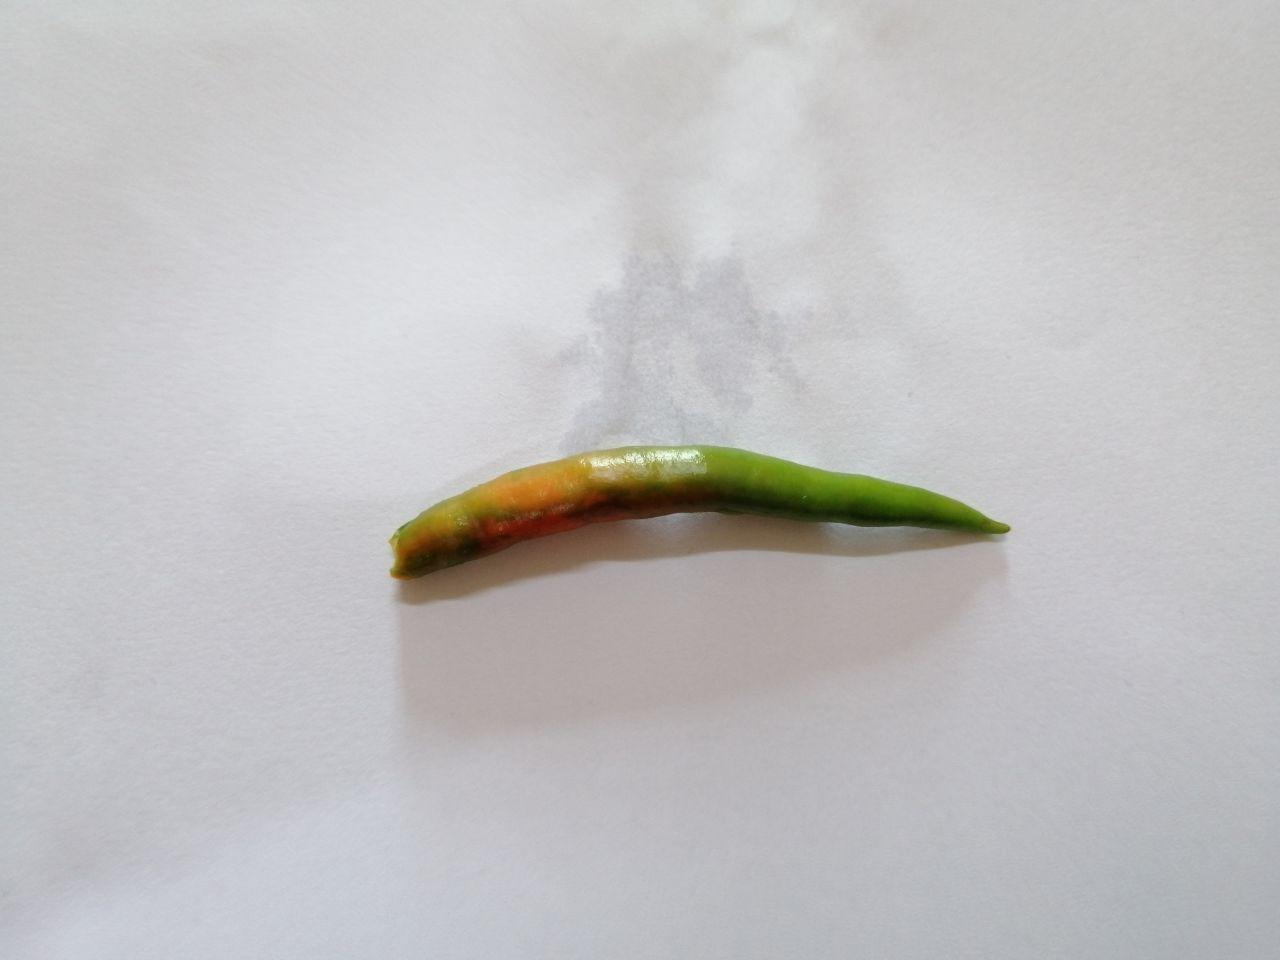lada kuning: (334, 405, 1034, 624)
